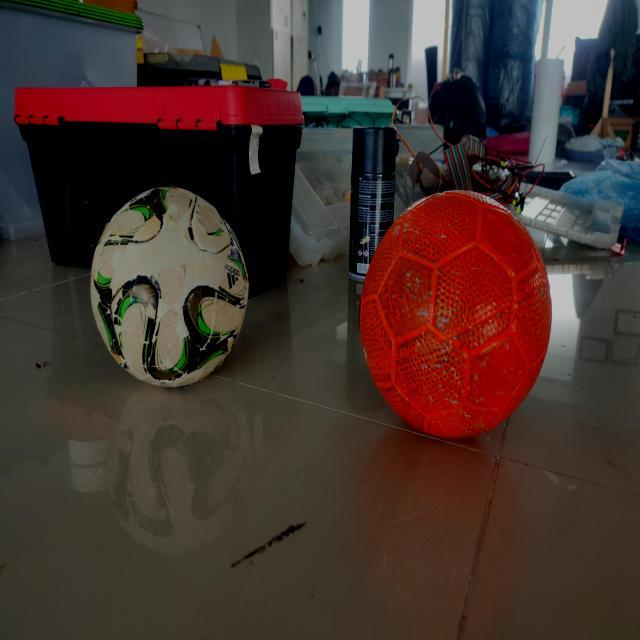bola: (348, 176, 561, 450)
